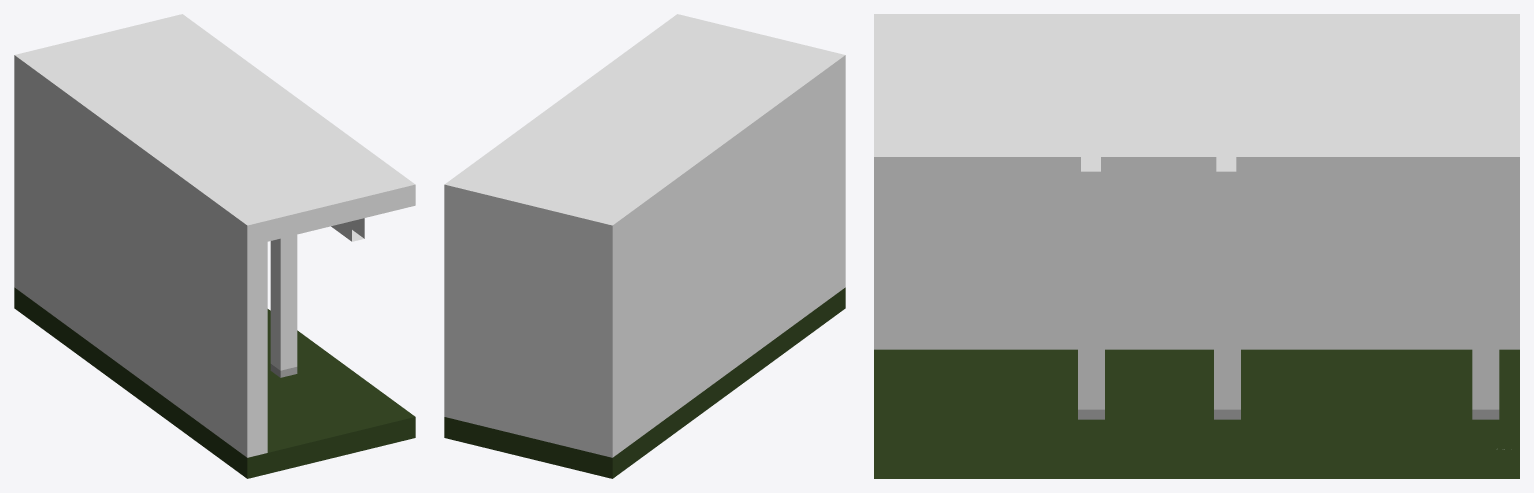
File: SM_cangChu_1.fbx
The picture shows the model from 3 angles, left to right: view 1: azimuth 30°, elevation 25°; view 2: azimuth 150°, elevation 25°; view 3: azimuth 270°, elevation 25°; orthographic projection. The views are drawn at different scales.
Parts seen in each view (by area): view 1: SM_cangChu_1; view 2: SM_cangChu_1; view 3: SM_cangChu_1.
Boxes of the visible parts, bbox=[...] form: SM_cangChu_1: bbox=[14, 14, 415, 478]; SM_cangChu_1: bbox=[444, 14, 845, 478]; SM_cangChu_1: bbox=[874, 14, 1519, 478].
Size of the model in its own units: 5 by 7.2 by 12.
